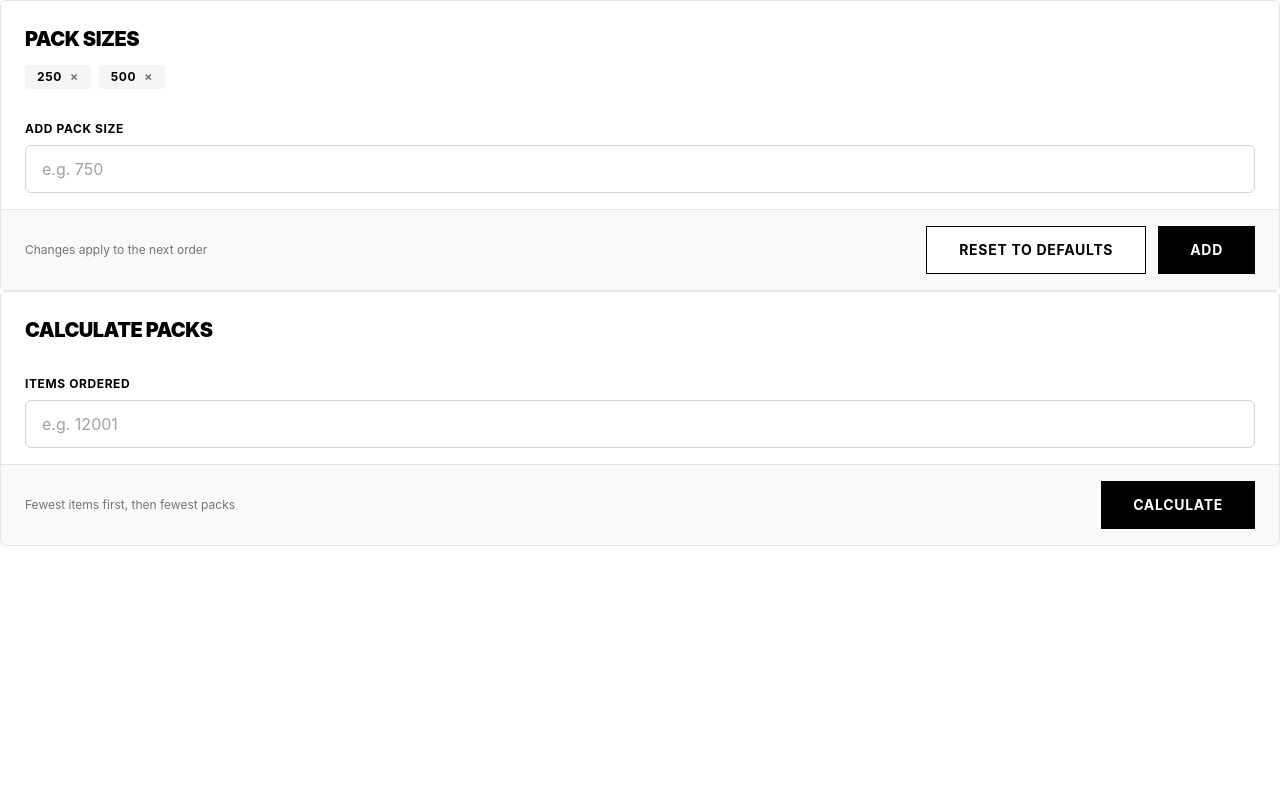
Test case: PackCalculator › shows the pack breakdown for a submitted order
Type "501" into the number field labelled "Items ordered" at x=640, y=424, box [25,400,1255,448]
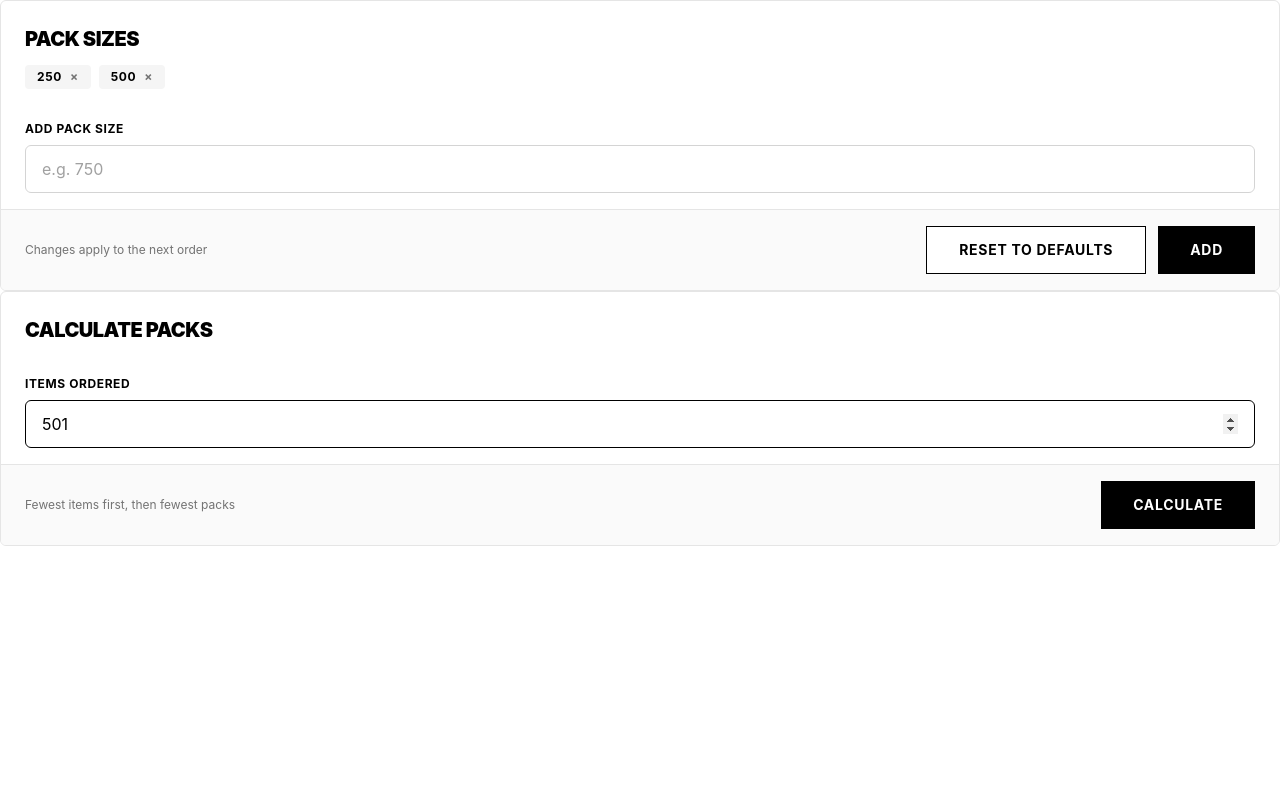
Click the button "Calculate" at x=1178, y=505, box [1101,481,1255,529]
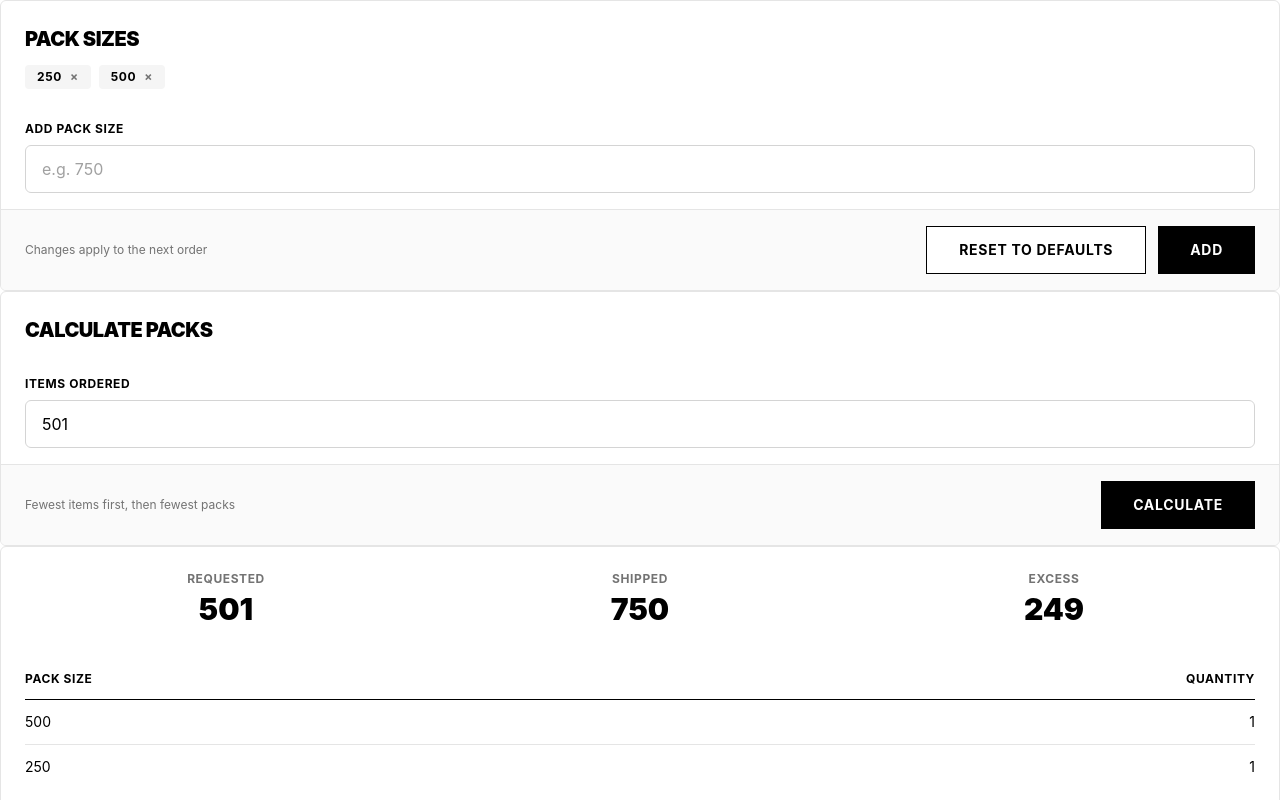
Now the text "750" is shown, box [611,591,669,627]
Now the text "249" is shown, box [1024,591,1084,627]
